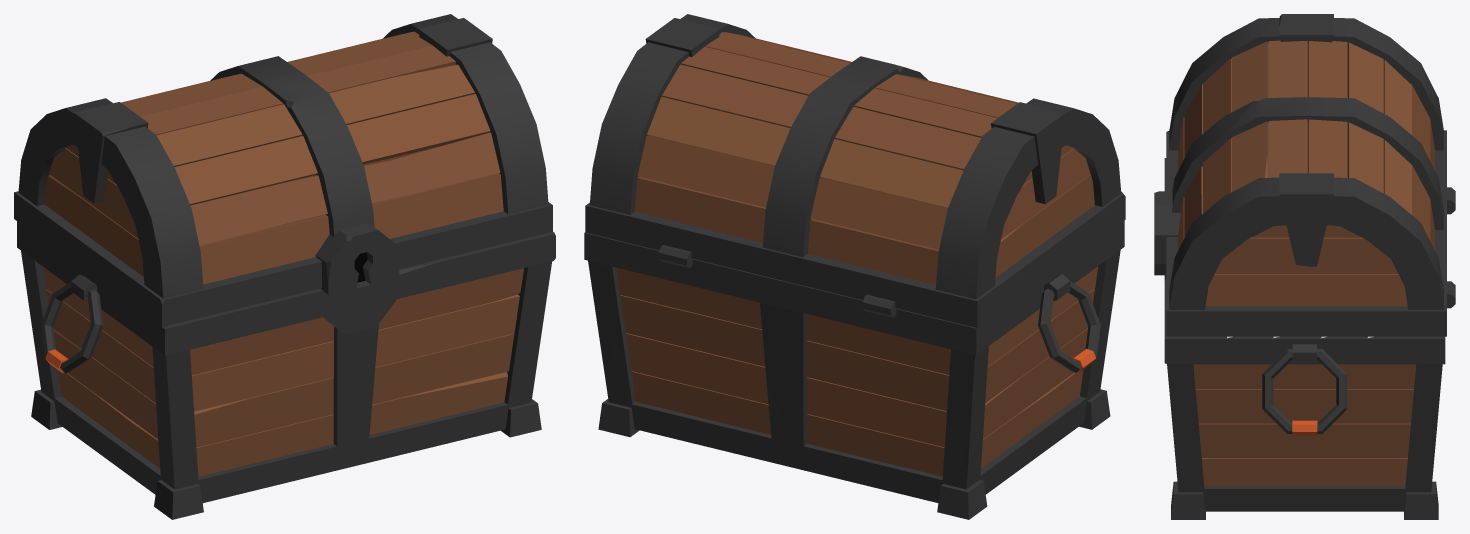
Rendered from EvilChest.fbx.
3 views of the same model, side by side, from view 1: azimuth 30°, elevation 25°; view 2: azimuth 150°, elevation 25°; view 3: azimuth 270°, elevation 25° (orthographic). The views are drawn at different scales.
Parts seen in each view (by area): view 1: Chest_01_2_LOD0, Chest_01_1_LOD0; view 2: Chest_01_2_LOD0, Chest_01_1_LOD0; view 3: Chest_01_2_LOD0, Chest_01_1_LOD0.
Boxes of the visible parts, box(x1,y1,x2,y2) form: Chest_01_2_LOD0: box(14, 14, 552, 326); Chest_01_1_LOD0: box(17, 221, 555, 519); Chest_01_2_LOD0: box(585, 14, 1125, 327); Chest_01_1_LOD0: box(584, 220, 1124, 519); Chest_01_2_LOD0: box(1154, 14, 1446, 336); Chest_01_1_LOD0: box(1164, 158, 1455, 519).
Bounding box in the file's own units: 96.72 × 68.39 × 56.75.
